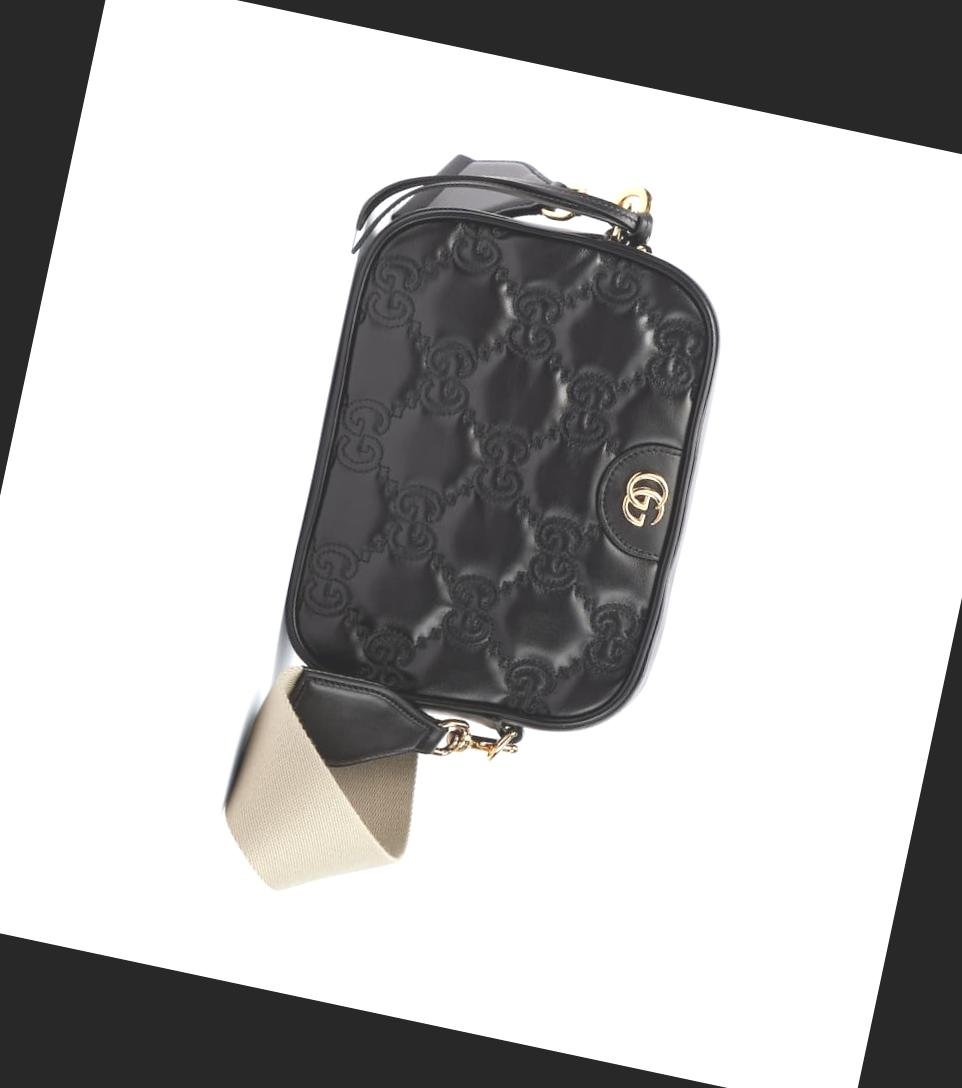GUCCI: (617, 468, 672, 532)
